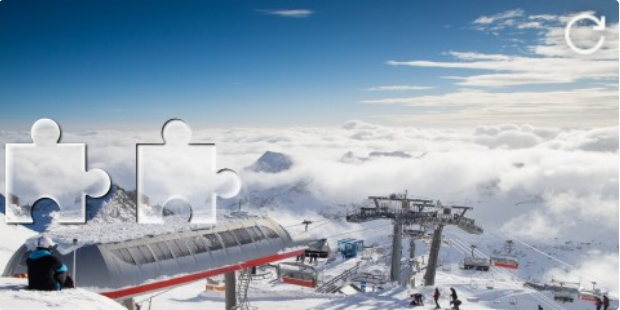target: (137, 118, 239, 224)
